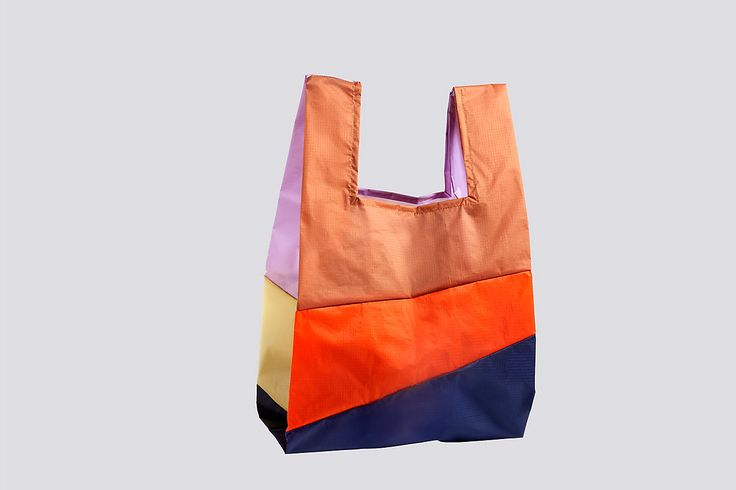nylon: (256, 75, 538, 455)
